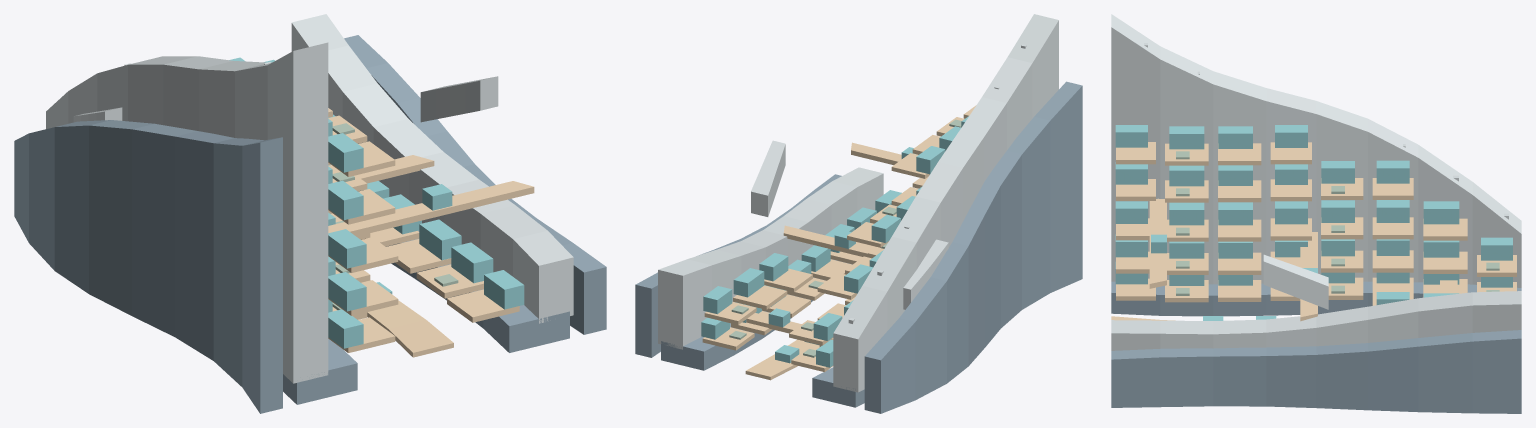
The picture shows the model from 3 angles, left to right: view 1: azimuth 30°, elevation 25°; view 2: azimuth 150°, elevation 25°; view 3: azimuth 270°, elevation 25°; orthographic projection. The views are drawn at different scales.
Size of the model in its own units: 244 by 224 by 302.
